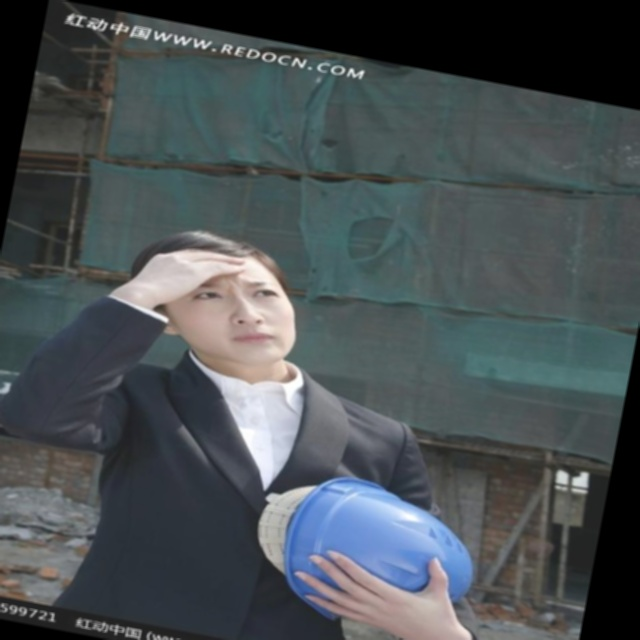Sin_Casco_Mascarrilla: (120, 220, 314, 374)
